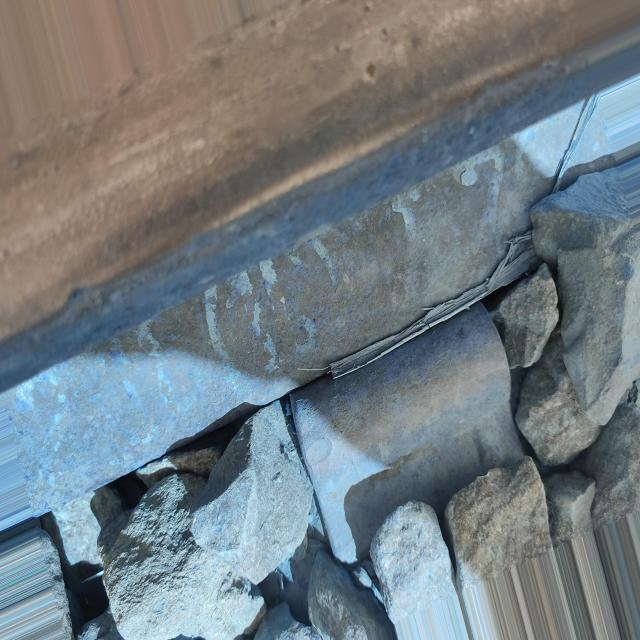Missing Fastener: (266, 285, 571, 591)
